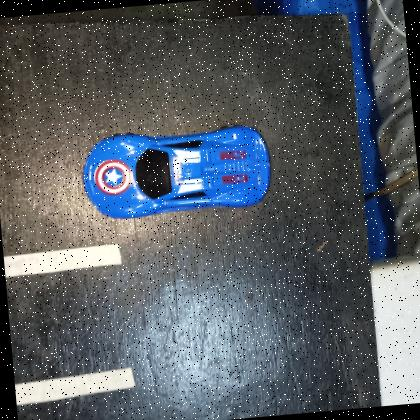Car: (82, 123, 271, 217)
